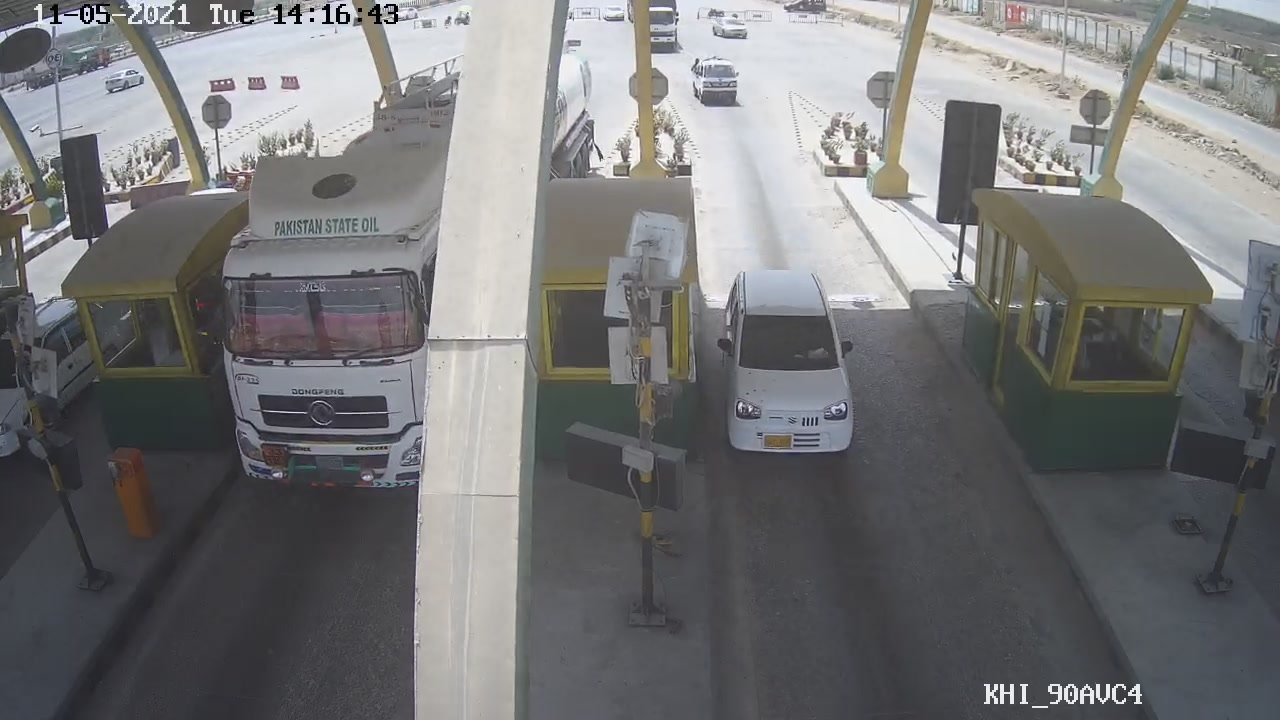F1: (718, 265, 872, 467)
